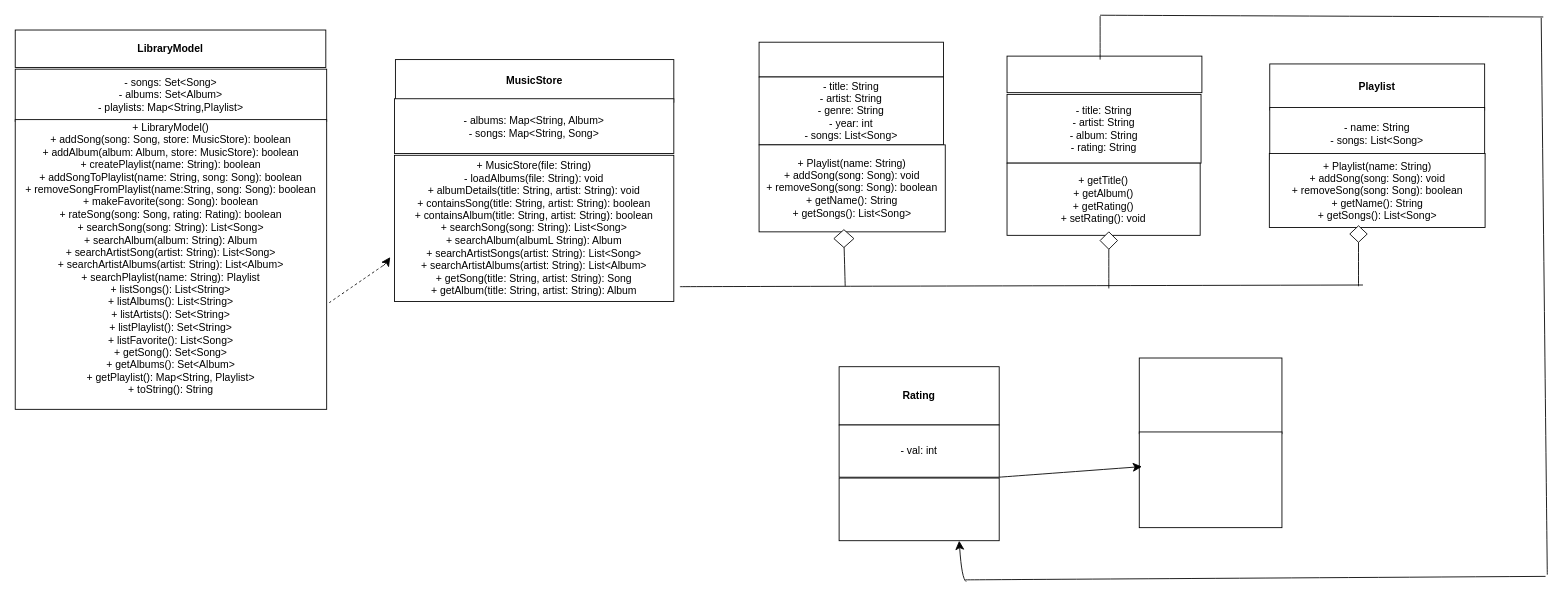
Image size: 1563x597. Some labels were removed from this diagram. The shapes that lost their labels are listed below. From the top down, each one's centre as x and y in pixels, then its label:
[851,59]: Album
[1104,74]: Song
[1210,395]: enumeration val
[1210,479]: ONE TWO THREE FOUR FIVE
[918,509]: + Rating(val: int) + getValue(): int + toString(): String
